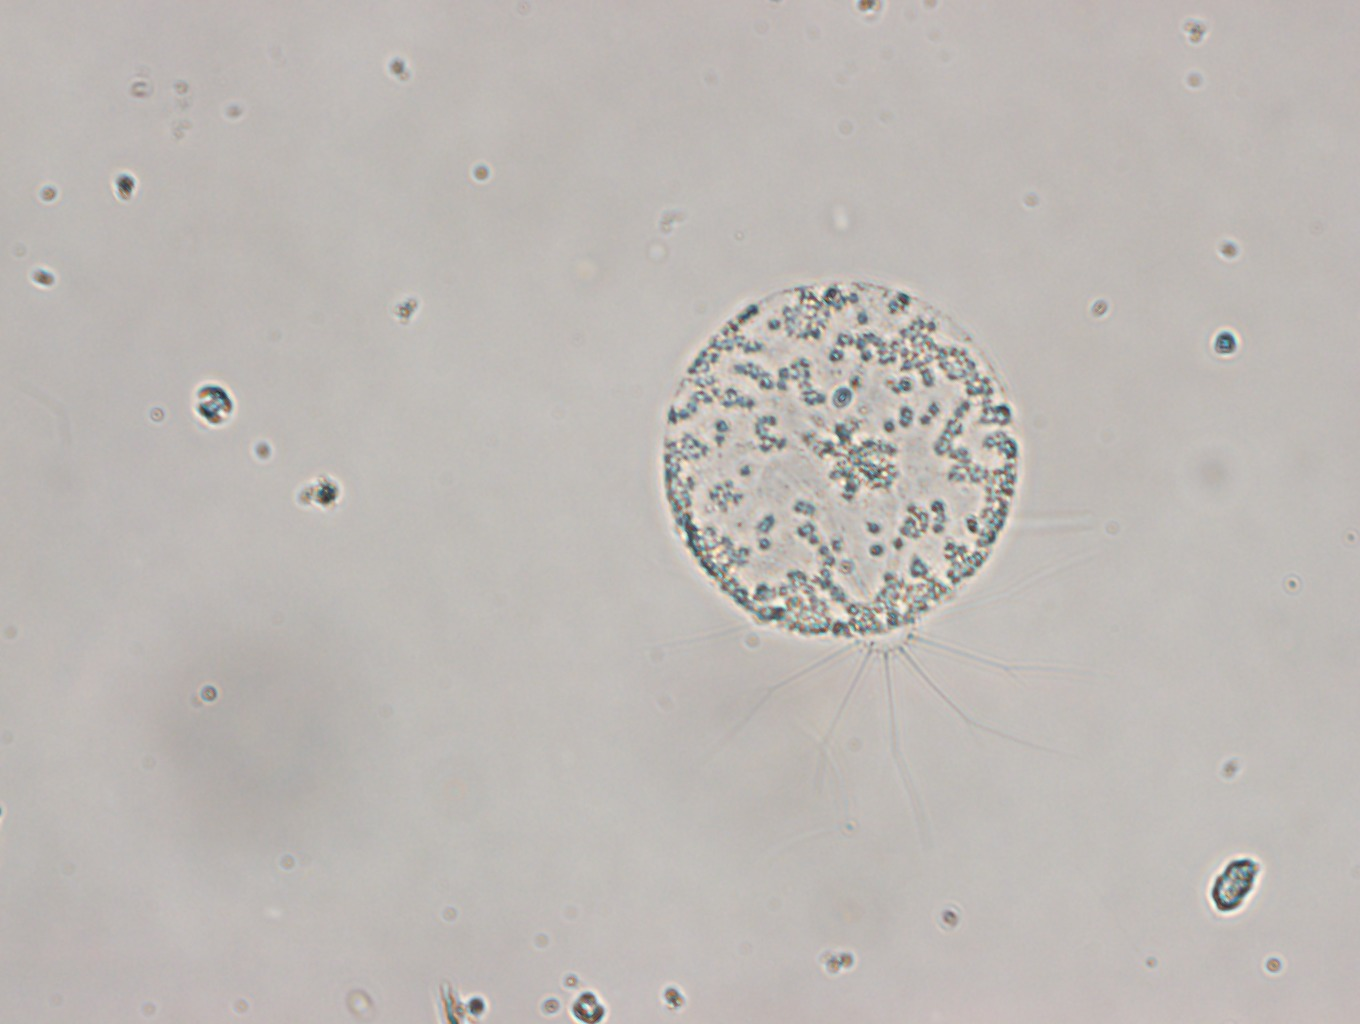coscinodiscus: (659, 275, 1034, 656)
